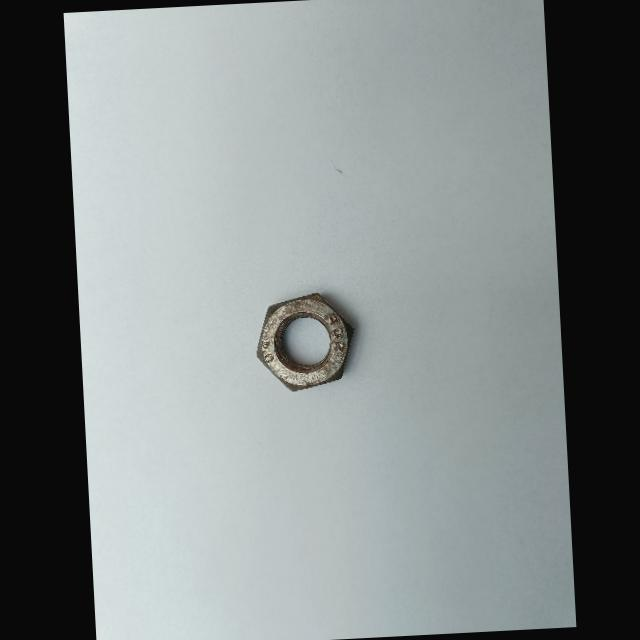nuts: (257, 293, 354, 391)
